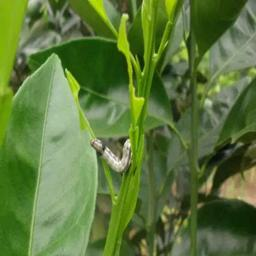Tobacco_budworm: (89, 135, 132, 173)
